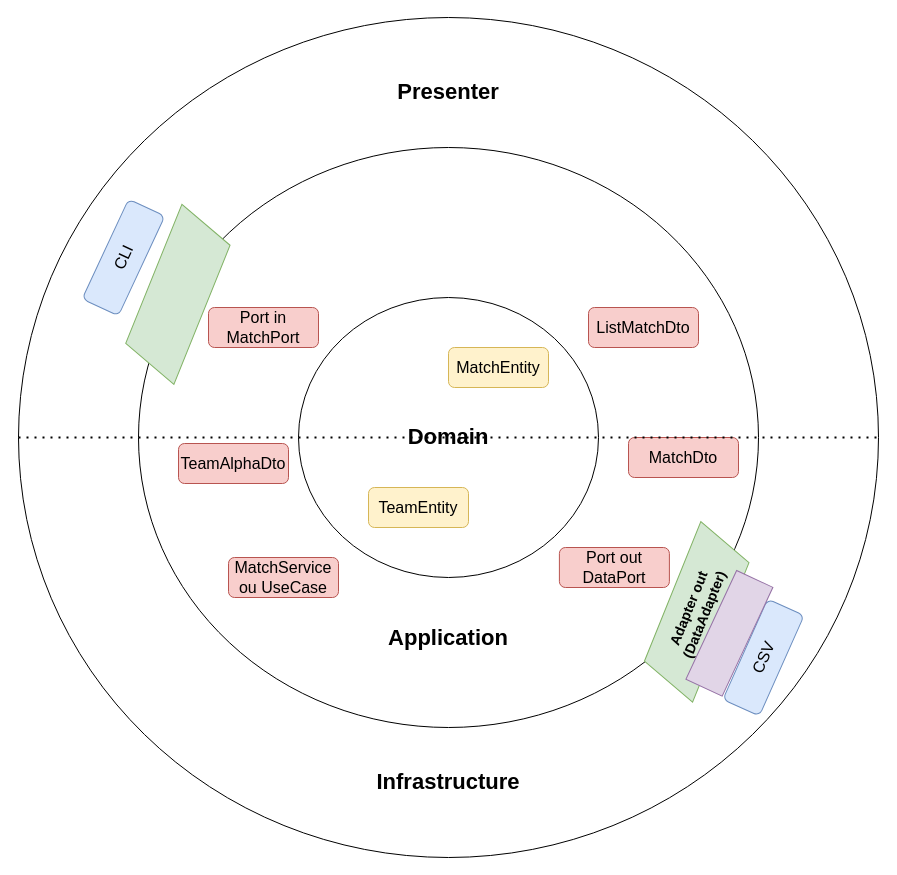
Image size: 897x875. Some labels were removed from this diagram. Each missing label, with the centre of its shape:
Adapter In (ConsoleAdapter): the point at 177,293
Repository: the point at 729,632
